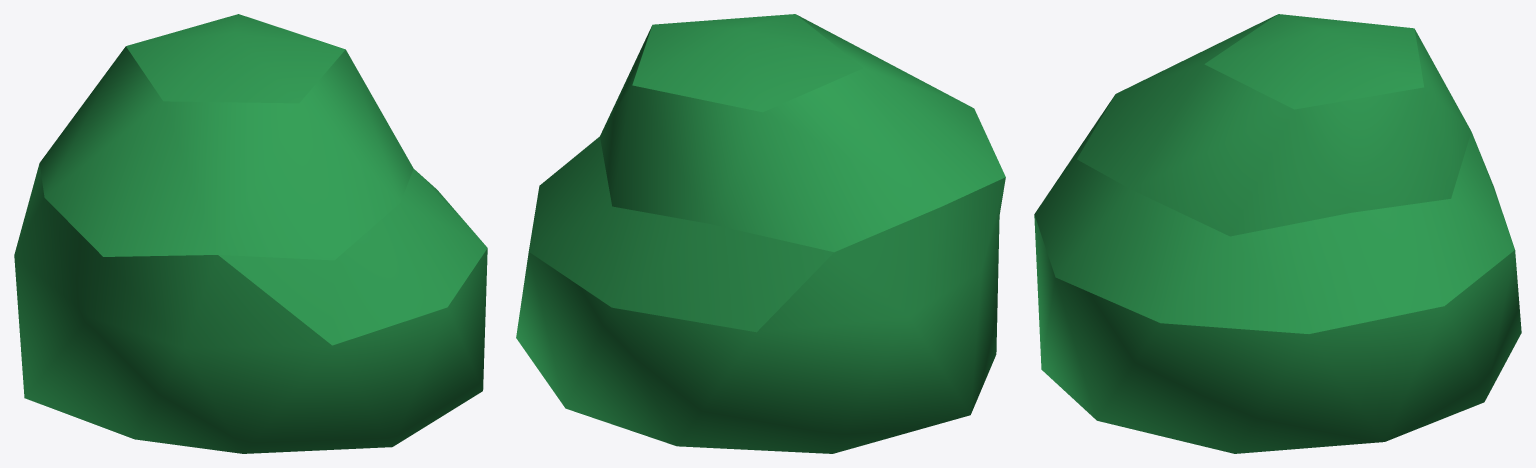
The model's file is IslandBushTestModel1.fbx.
The picture shows the model from 3 angles, left to right: view 1: azimuth 30°, elevation 25°; view 2: azimuth 150°, elevation 25°; view 3: azimuth 270°, elevation 25°; orthographic projection. The views are drawn at different scales.
Visible parts, largest first — view 1: Cube.004; view 2: Cube.004; view 3: Cube.004.
Boxes of the visible parts, x1,y1,x2,y2 form: Cube.004: (14, 14, 487, 453); Cube.004: (516, 14, 1005, 453); Cube.004: (1034, 14, 1521, 453).
Bounding box in the file's own units: 4.22 × 3.48 × 4.24.
